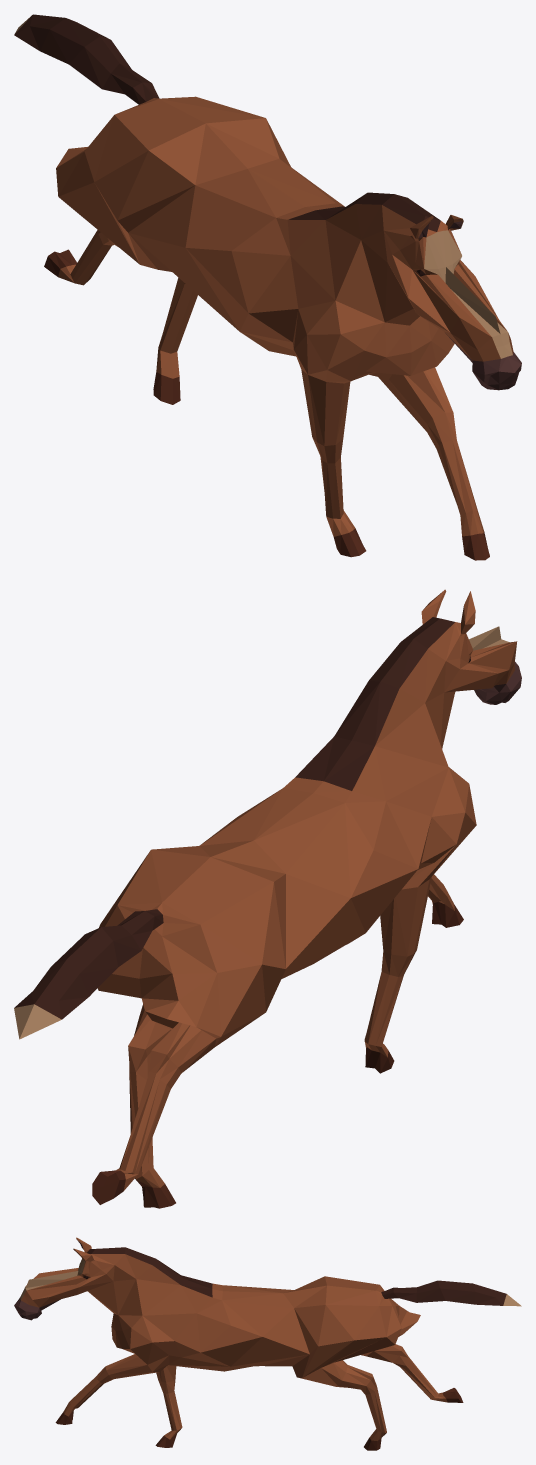
File: Horse_brown_v6_fat_body.glb
3 renders of one model, top to bottom at view 1: azimuth 30°, elevation 25°; view 2: azimuth 150°, elevation 25°; view 3: azimuth 270°, elevation 25°, orthographic. The views are drawn at different scales.
Bounding box in the file's own units: 79.24 × 182 × 401.
